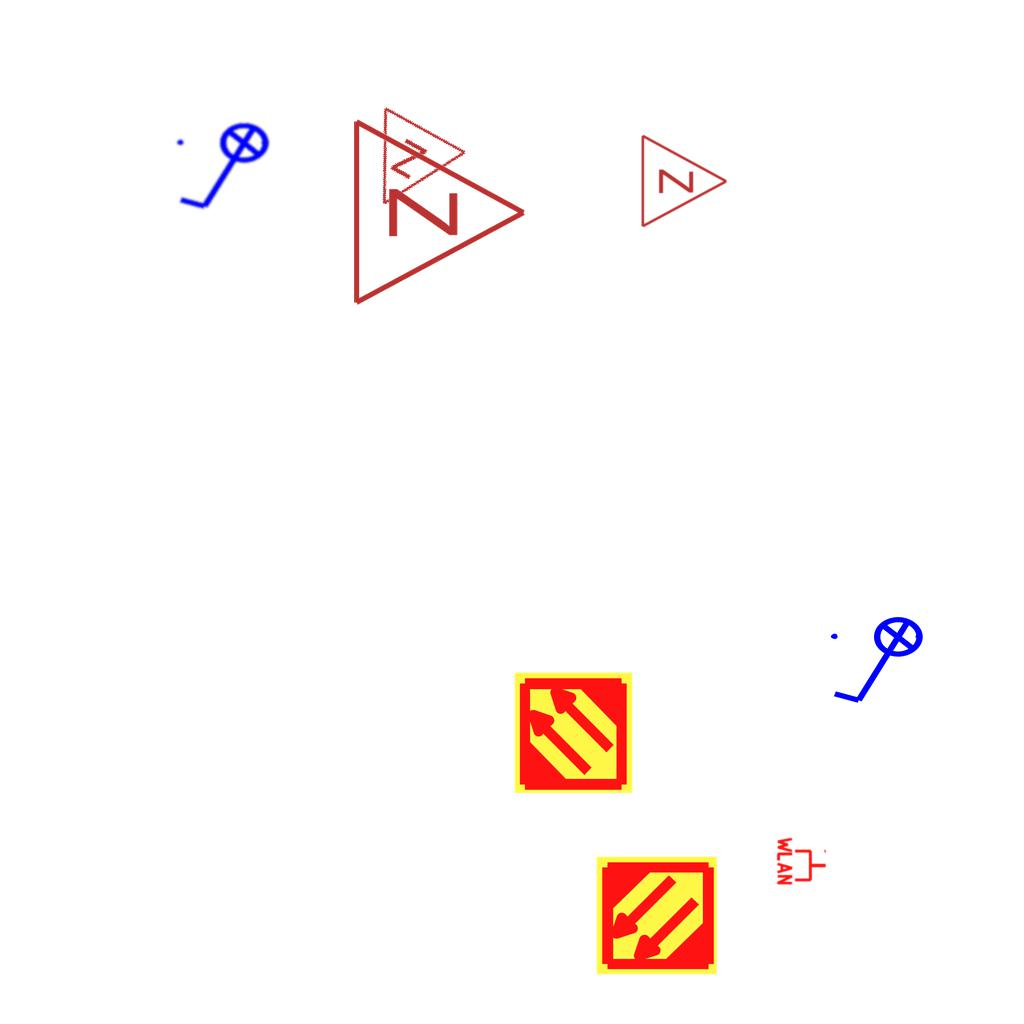ASR_Ansaugrauchmelder: (594, 853, 719, 978), (511, 670, 636, 795)
Ausschalter_beleuchtet: (825, 615, 937, 711), (171, 121, 283, 217)
WLAN: (776, 835, 828, 887)
Zimmersignalleuchte: (339, 112, 539, 308), (338, 99, 474, 235), (634, 131, 734, 229)
